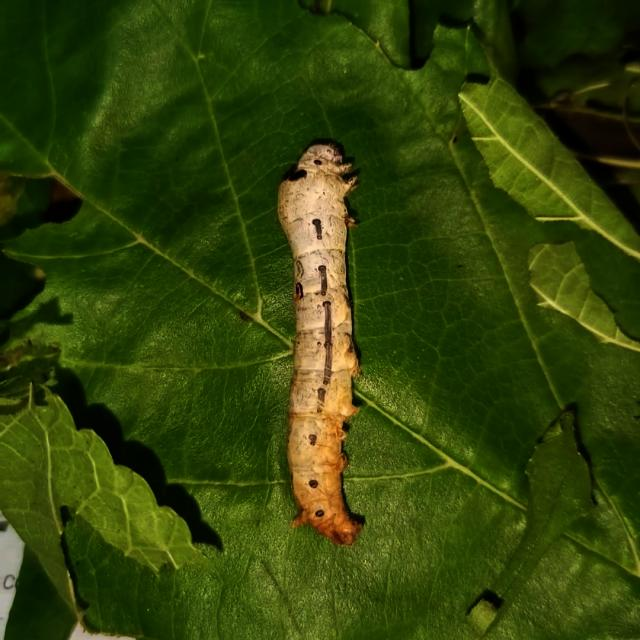Grasserie: (223, 117, 445, 579)
